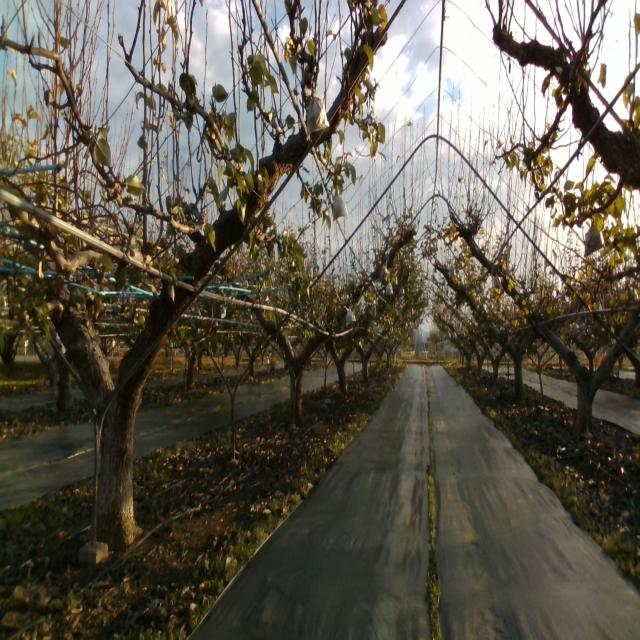pearbags: (306, 97, 330, 141), (584, 220, 604, 258), (332, 190, 349, 222), (346, 309, 356, 328), (380, 264, 390, 282)
